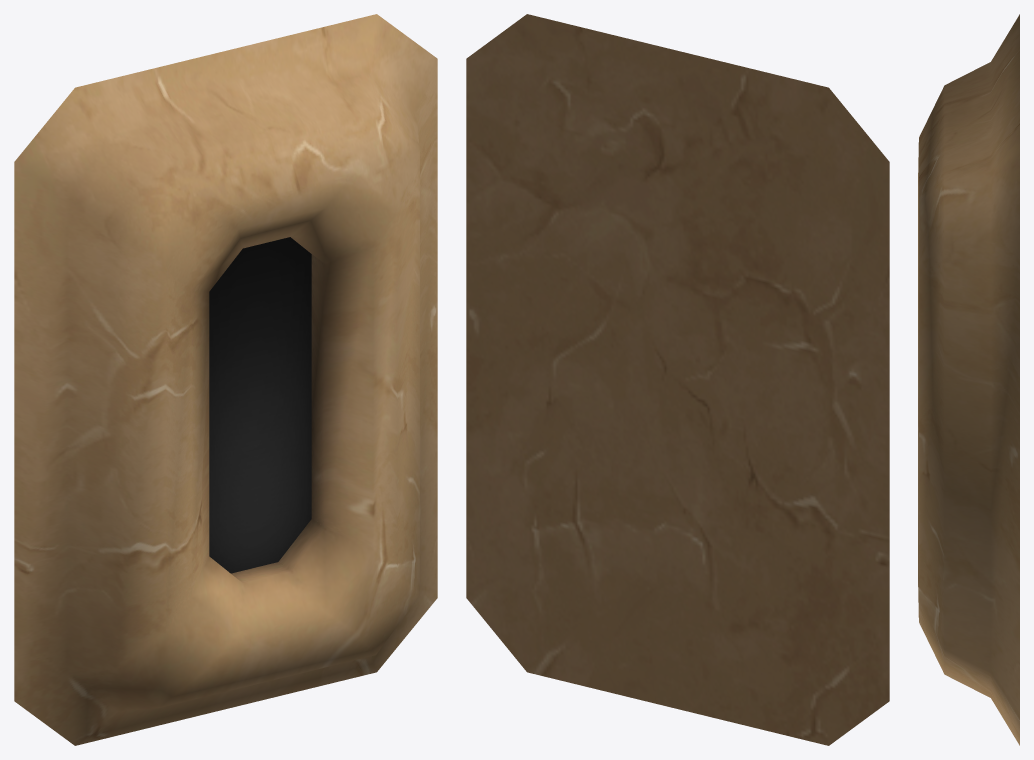
Rendered from DE_House_Mod_Part_28.fbx.
The picture shows the model from 3 angles, left to right: view 1: azimuth 30°, elevation 25°; view 2: azimuth 150°, elevation 25°; view 3: azimuth 270°, elevation 25°; orthographic projection. The views are drawn at different scales.
Parts seen in each view (by area): view 1: DE_House_Mod_Part_28; view 2: DE_House_Mod_Part_28; view 3: DE_House_Mod_Part_28.
Part boxes in pixels (left/top/right/bottom): DE_House_Mod_Part_28: left=14, top=14, right=437, bottom=745; DE_House_Mod_Part_28: left=466, top=14, right=889, bottom=745; DE_House_Mod_Part_28: left=918, top=14, right=1019, bottom=745.
Bounding box in the file's own units: 0.5369 × 0.7974 × 0.123.
